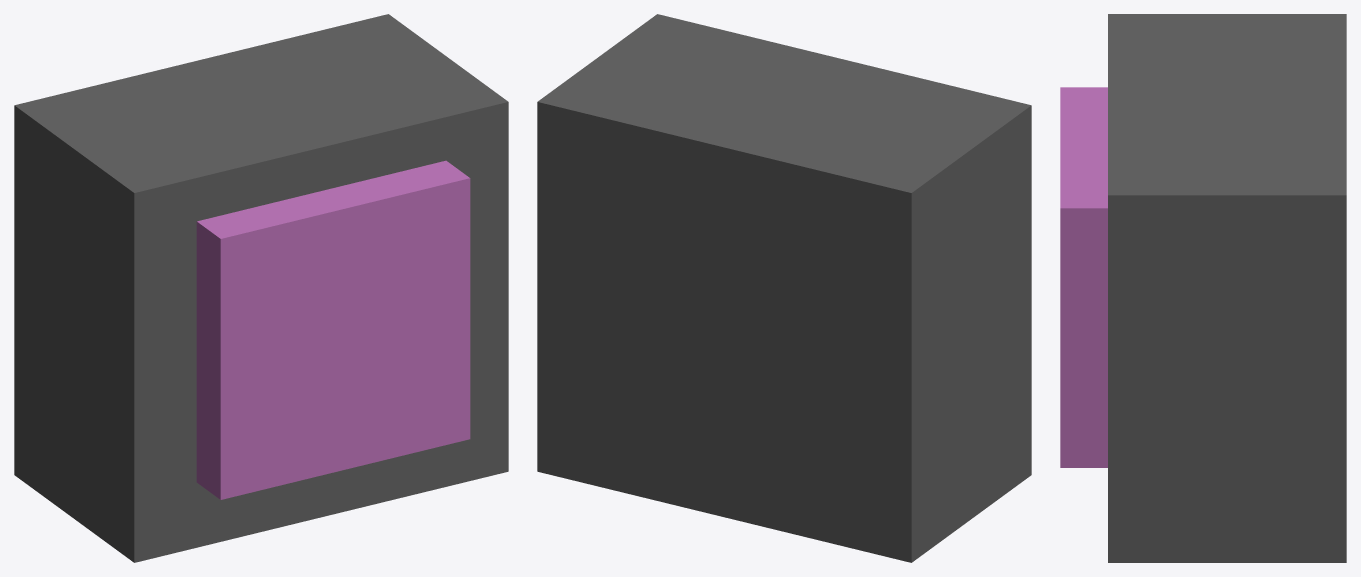
File: MouseFull-3.obj
3 views of the same model, side by side, from view 1: azimuth 30°, elevation 25°; view 2: azimuth 150°, elevation 25°; view 3: azimuth 270°, elevation 25° (orthographic).
Size of the model in its own units: 1.8 by 1.7 by 1.2.
Materials: 1 (1 with a texture image).
